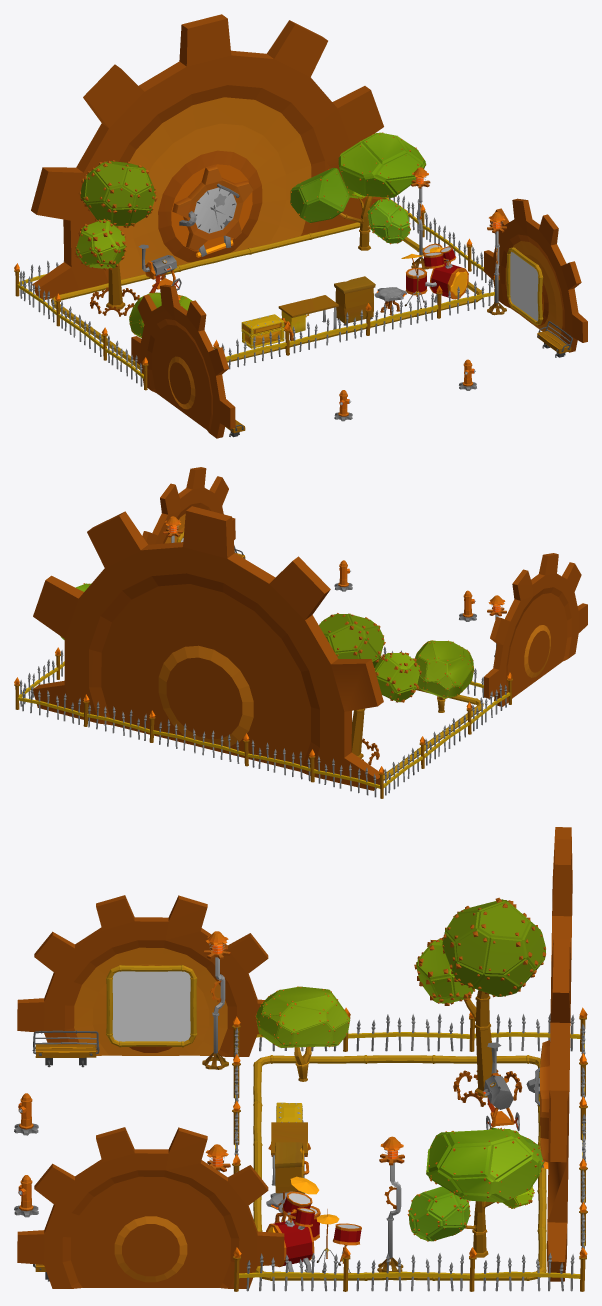
The model's file is obj_exterior_base.gltf.
3 views of the same model, one above another, from view 1: azimuth 30°, elevation 25°; view 2: azimuth 150°, elevation 25°; view 3: azimuth 270°, elevation 25° (orthographic). The views are drawn at different scales.
Visible parts, largest first — view 1: obj_exterior_base; view 2: obj_exterior_base; view 3: obj_exterior_base.
Part boxes in pixels (bbox=[...]): obj_exterior_base: bbox=[14, 14, 587, 438]; obj_exterior_base: bbox=[14, 467, 587, 798]; obj_exterior_base: bbox=[14, 827, 587, 1291].
Size of what is drawn, in the model's own units: 15.88 by 9.71 by 15.81.
Materials: 1 (1 with a texture image).
